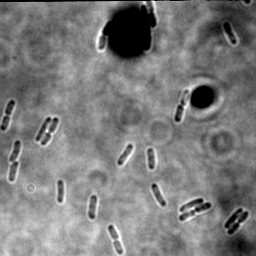Dividing: (178, 202, 212, 223), (95, 19, 114, 52), (40, 116, 60, 147), (227, 210, 250, 236), (173, 89, 190, 124), (107, 224, 124, 255), (1, 99, 16, 133)
Rod: (33, 116, 53, 143), (220, 20, 239, 47), (116, 143, 134, 168), (150, 182, 167, 208), (8, 139, 23, 164), (145, 147, 157, 171), (87, 194, 98, 220), (7, 161, 19, 183), (56, 179, 66, 205)
